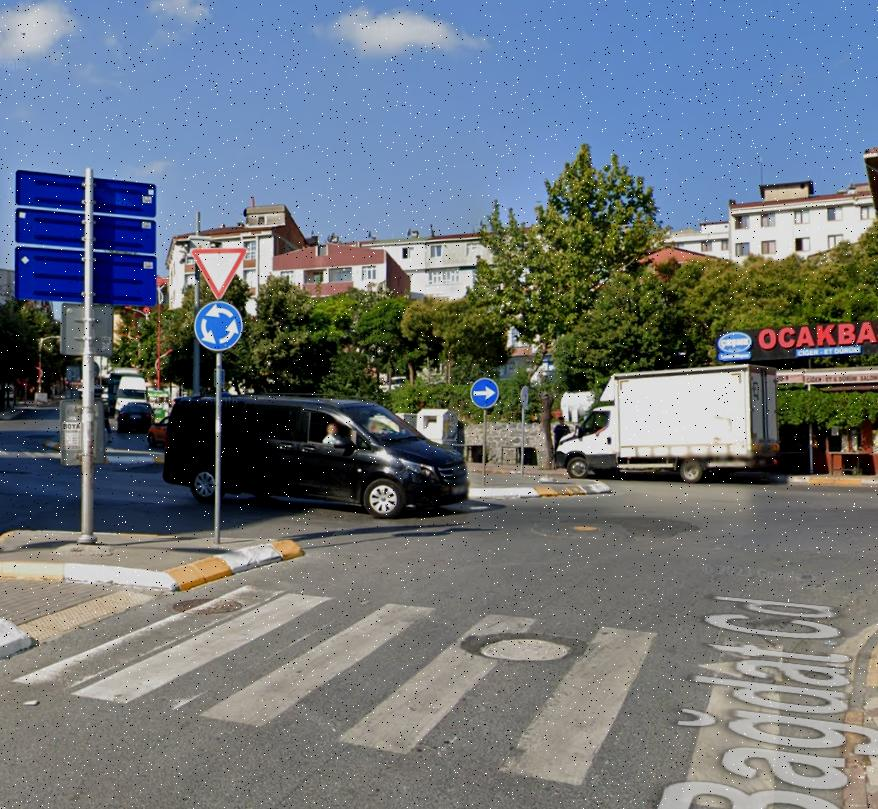crossroads: (194, 304, 243, 351)
turnright: (469, 377, 499, 410)
